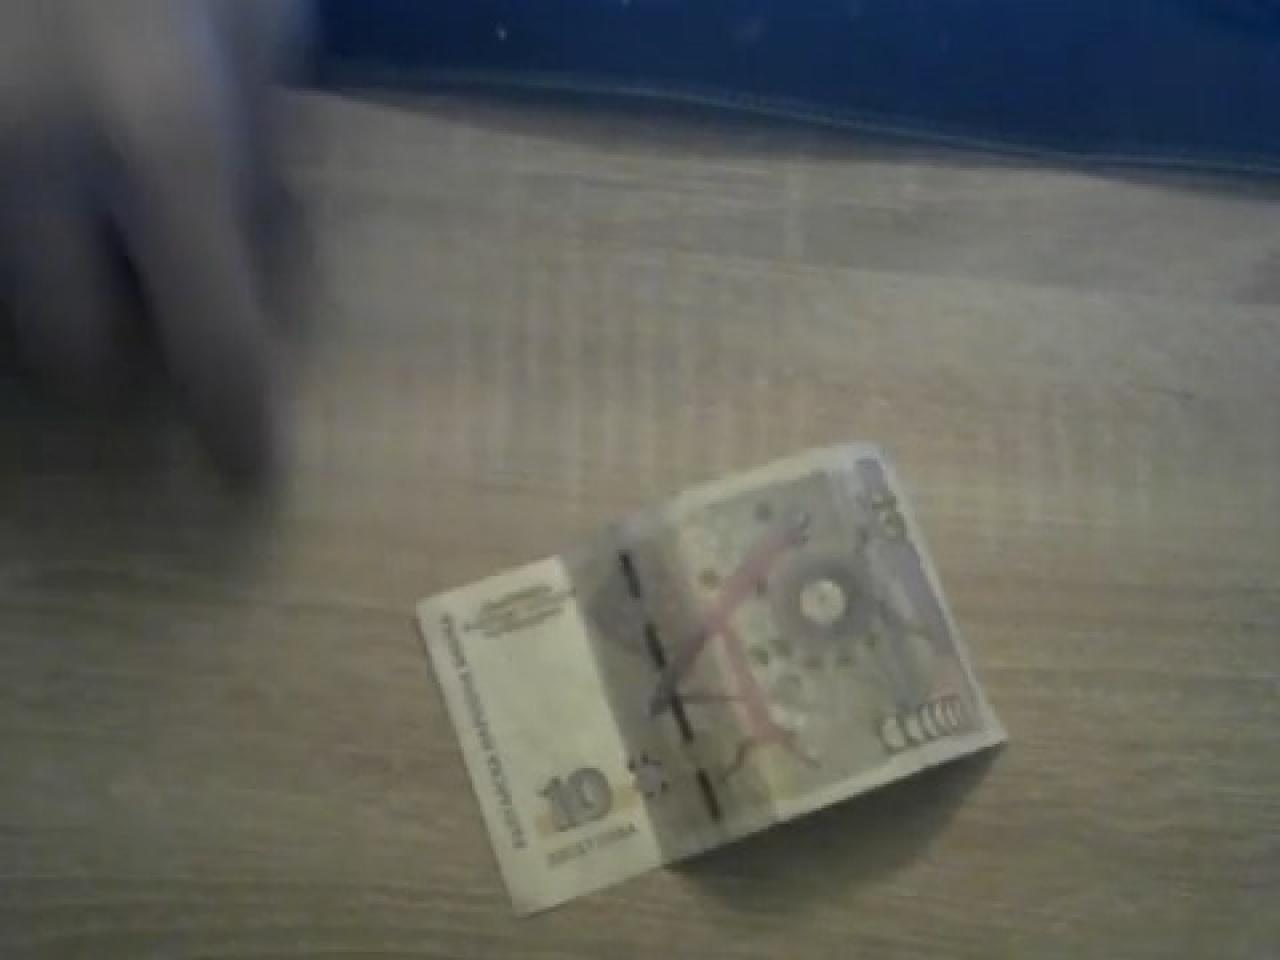10leva: (413, 443, 1008, 920)
